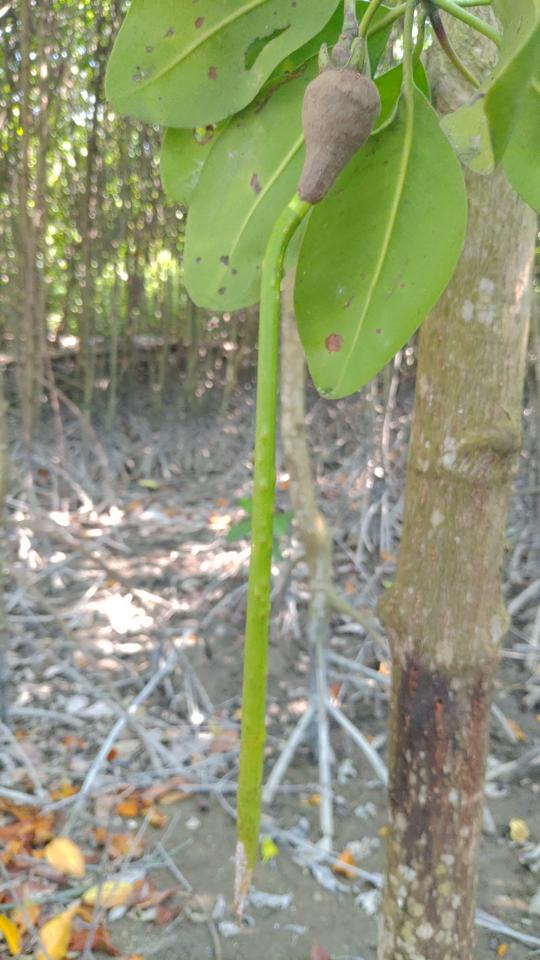setengah matang: (211, 38, 400, 932)
